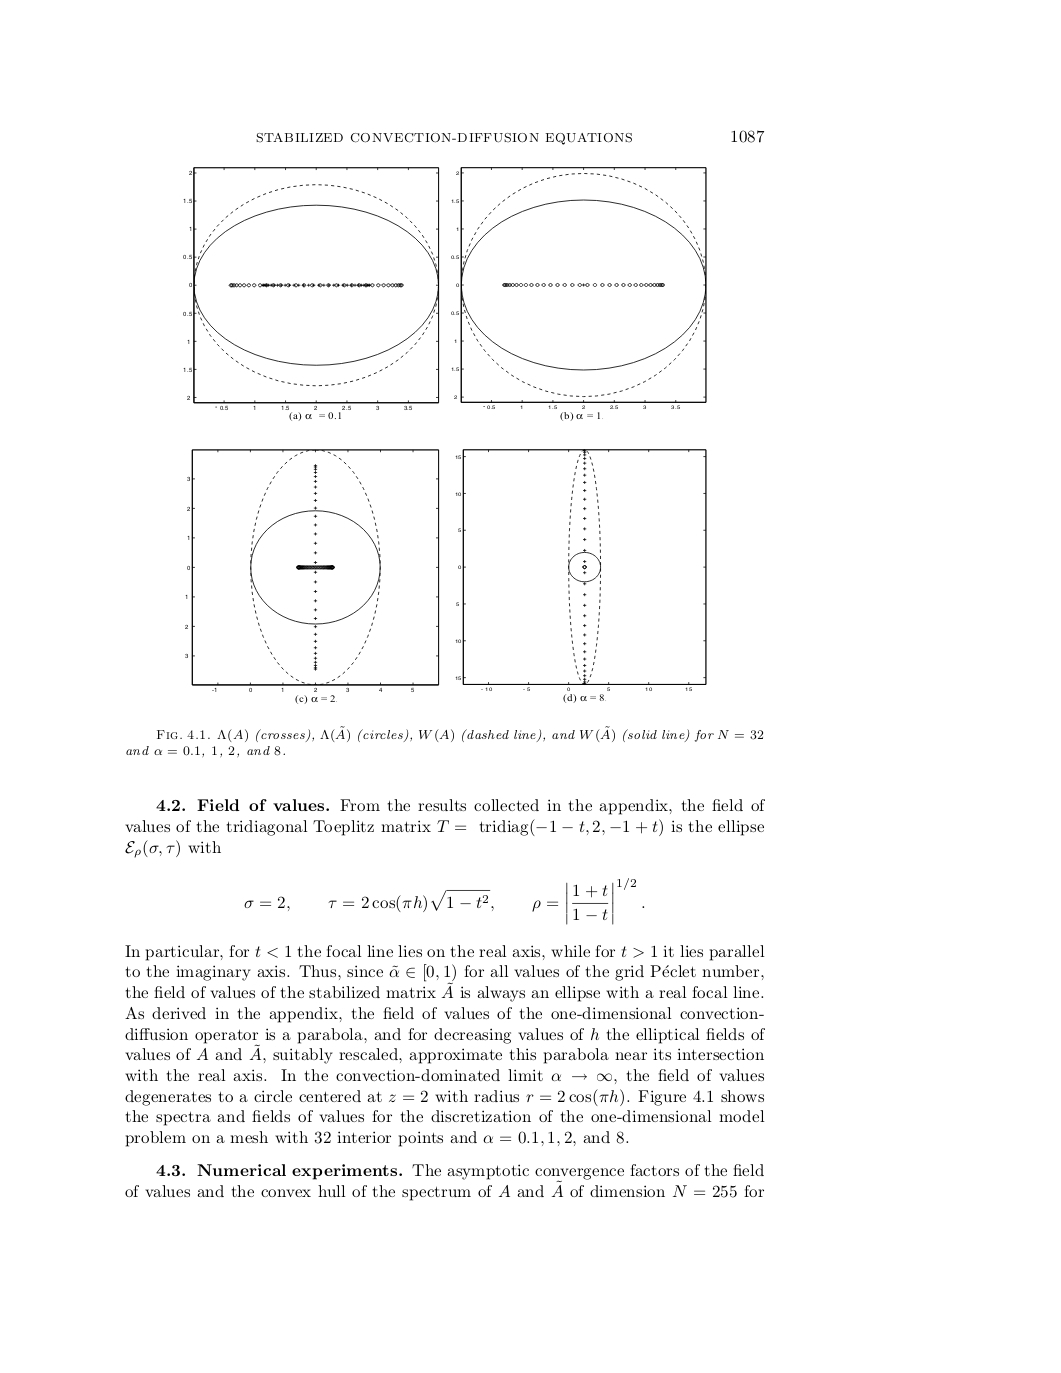figure: (183, 165, 439, 421), (185, 448, 439, 704), (451, 165, 705, 421), (455, 448, 705, 703)
formula: (244, 877, 644, 925)
